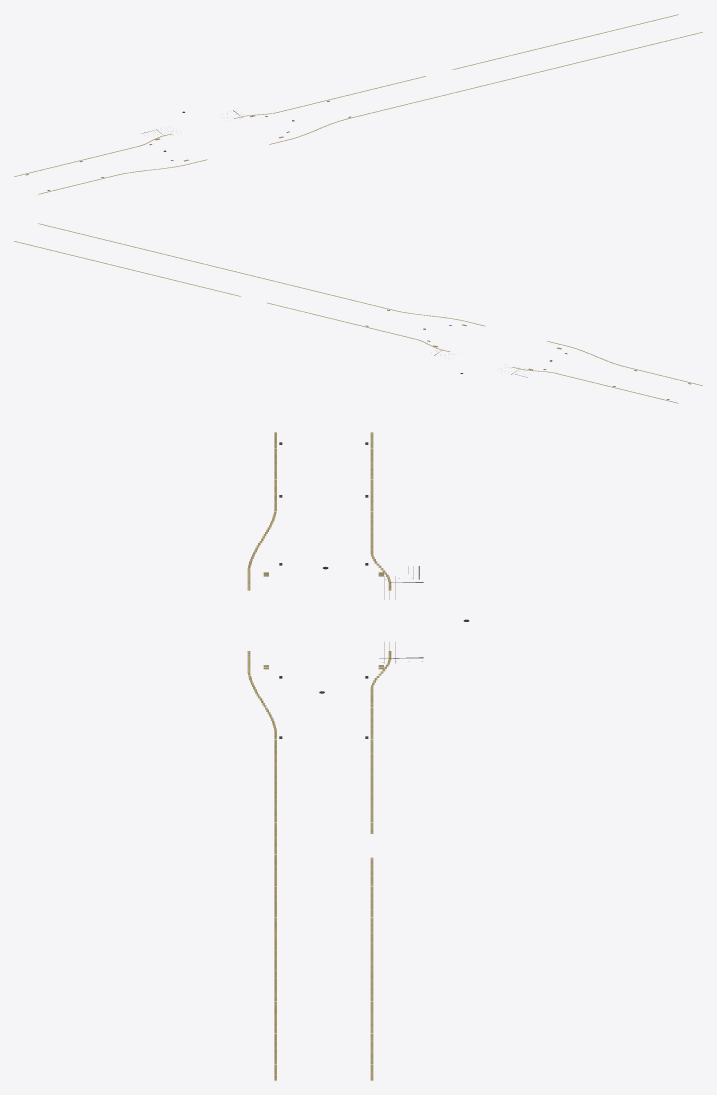
File: ART_PavingDetails.glb
3 renders of one model, top to bottom at view 1: azimuth 30°, elevation 25°; view 2: azimuth 150°, elevation 25°; view 3: azimuth 270°, elevation 25°, orthographic. The views are drawn at different scales.
Parts seen in each view (by area): view 1: ART_PavingDetails; view 2: ART_PavingDetails; view 3: ART_PavingDetails.
Part boxes in pixels (x1,y1,x2,y2): ART_PavingDetails: (14, 14, 702, 194); ART_PavingDetails: (14, 223, 702, 403); ART_PavingDetails: (247, 432, 469, 1080).
Size of the model in its own units: 172 by 0.159 by 24.87.
